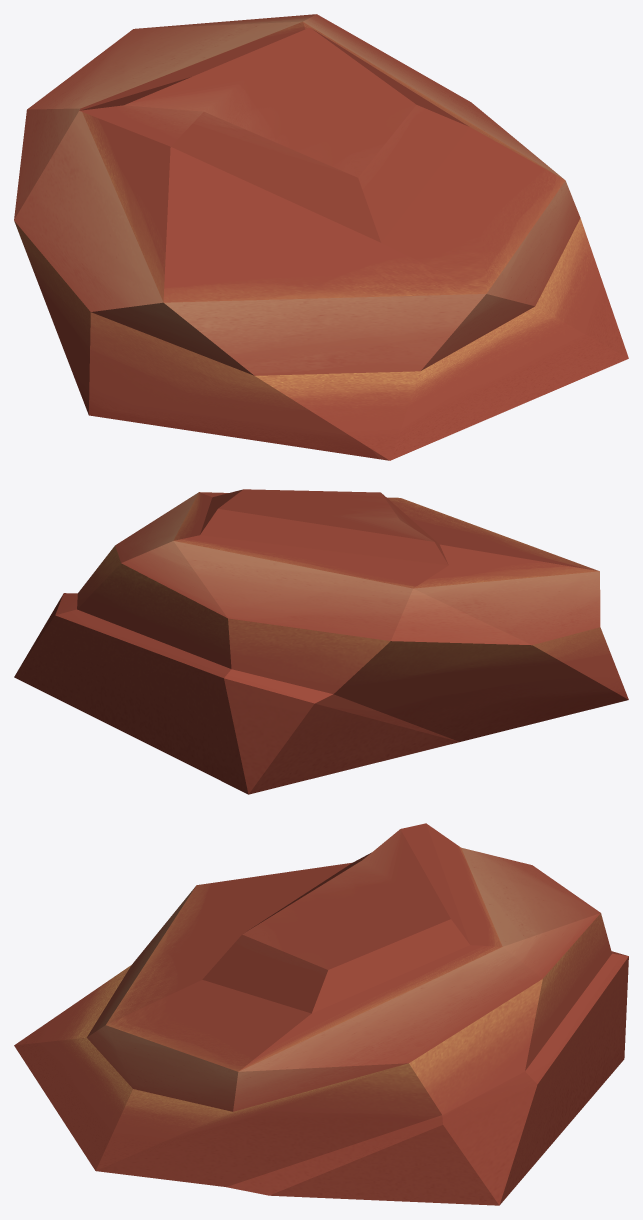
File: RockA.fbx
The picture shows the model from 3 angles, top to bottom: view 1: azimuth 30°, elevation 25°; view 2: azimuth 150°, elevation 25°; view 3: azimuth 270°, elevation 25°; orthographic projection. The views are drawn at different scales.
Parts seen in each view (by area): view 1: large rock 1; view 2: large rock 1; view 3: large rock 1.
Part boxes in pixels (x1,y1,x2,y2): large rock 1: (14,14,628,460); large rock 1: (14,489,628,794); large rock 1: (14,823,628,1205).
Size of the model in its own units: 290 by 111 by 314.
